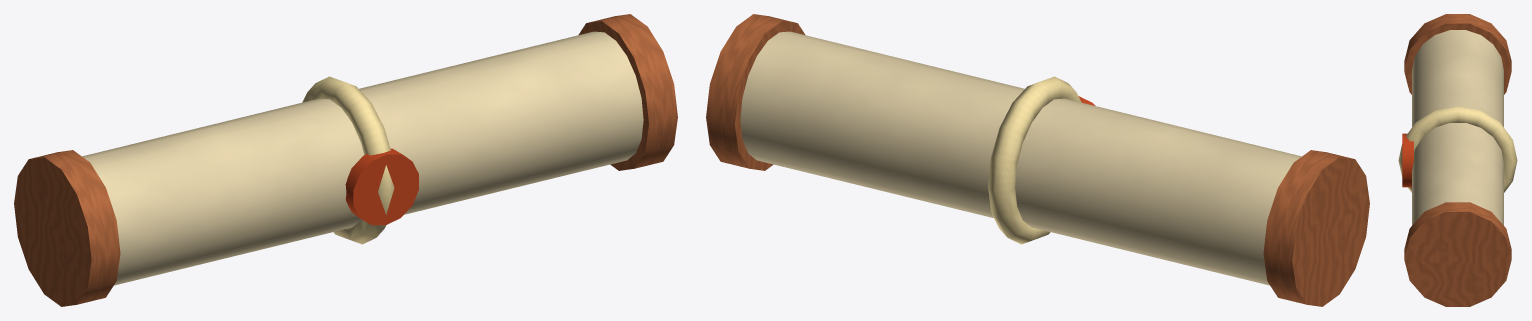
The model's file is blessing_scroll.glb.
3 views of the same model, side by side, from view 1: azimuth 30°, elevation 25°; view 2: azimuth 150°, elevation 25°; view 3: azimuth 270°, elevation 25° (orthographic). The views are drawn at different scales.
Parts seen in each view (by area): view 1: blessing_scroll; view 2: blessing_scroll; view 3: blessing_scroll.
Boxes of the visible parts, <box> form: blessing_scroll: <box>14,14,677,306</box>; blessing_scroll: <box>706,14,1369,306</box>; blessing_scroll: <box>1398,14,1517,306</box>.
Size of the model in its own units: 0.244 by 0.062 by 0.062.
4 materials, 3 textured.
